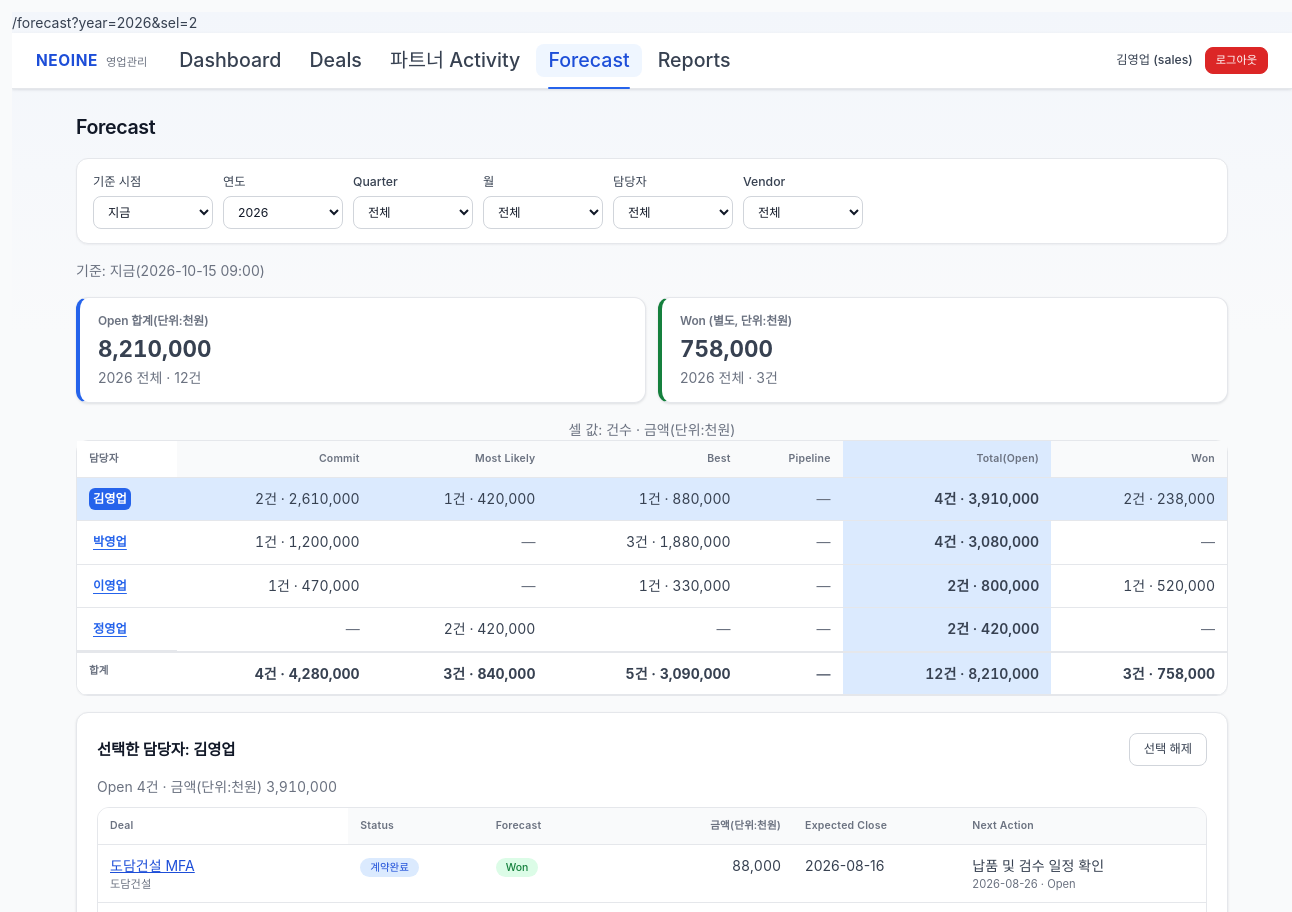
Test: 담당자 선택: 같은 화면 아래 Deal 목록 › 같은 담당자 버튼을 다시 누르면 선택이 해제된다
The image size is (1292, 912).
Click the button "김영업": (110, 499) [89, 488, 131, 510]
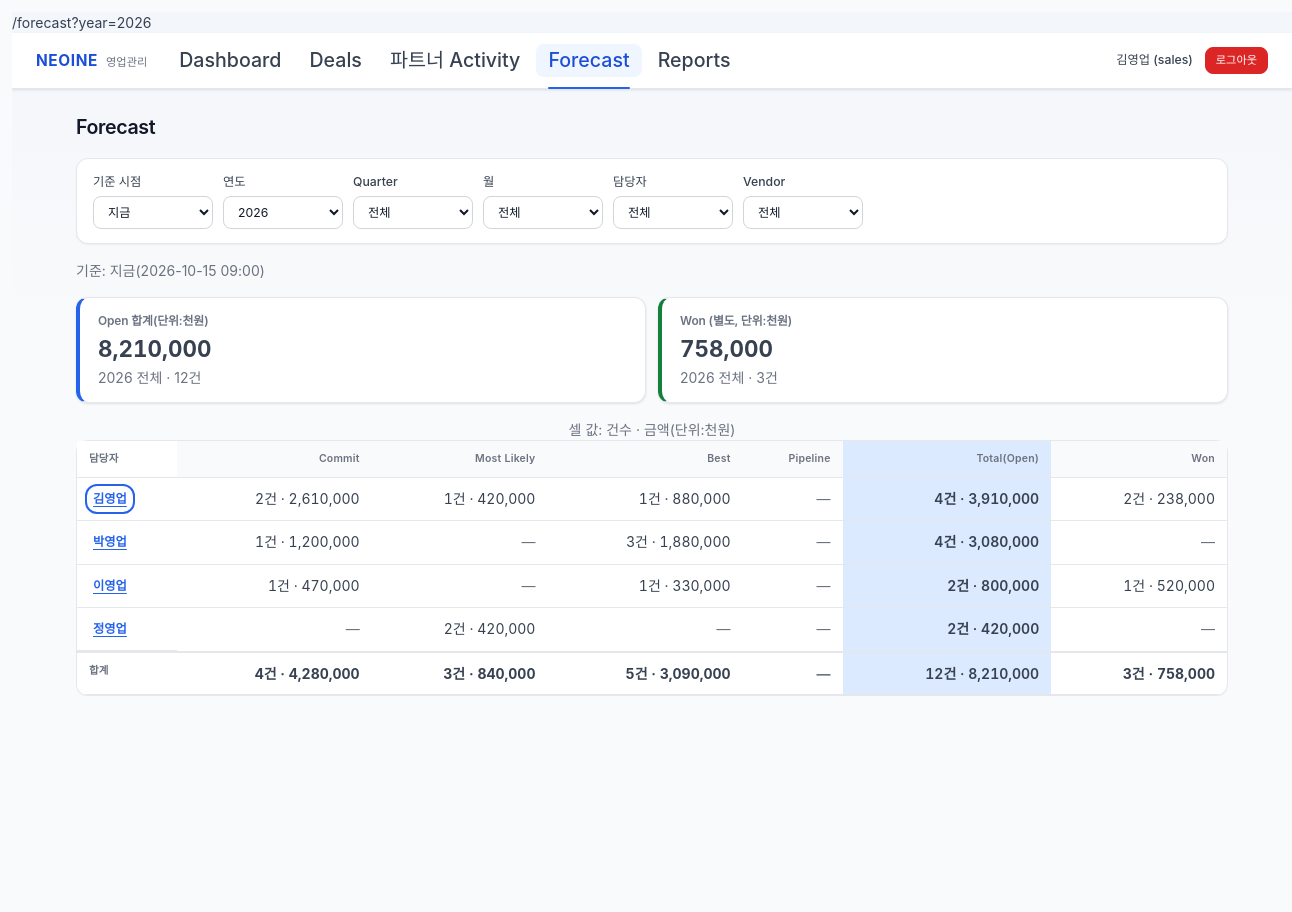
Check: the heading "선택한 담당자" is gone
